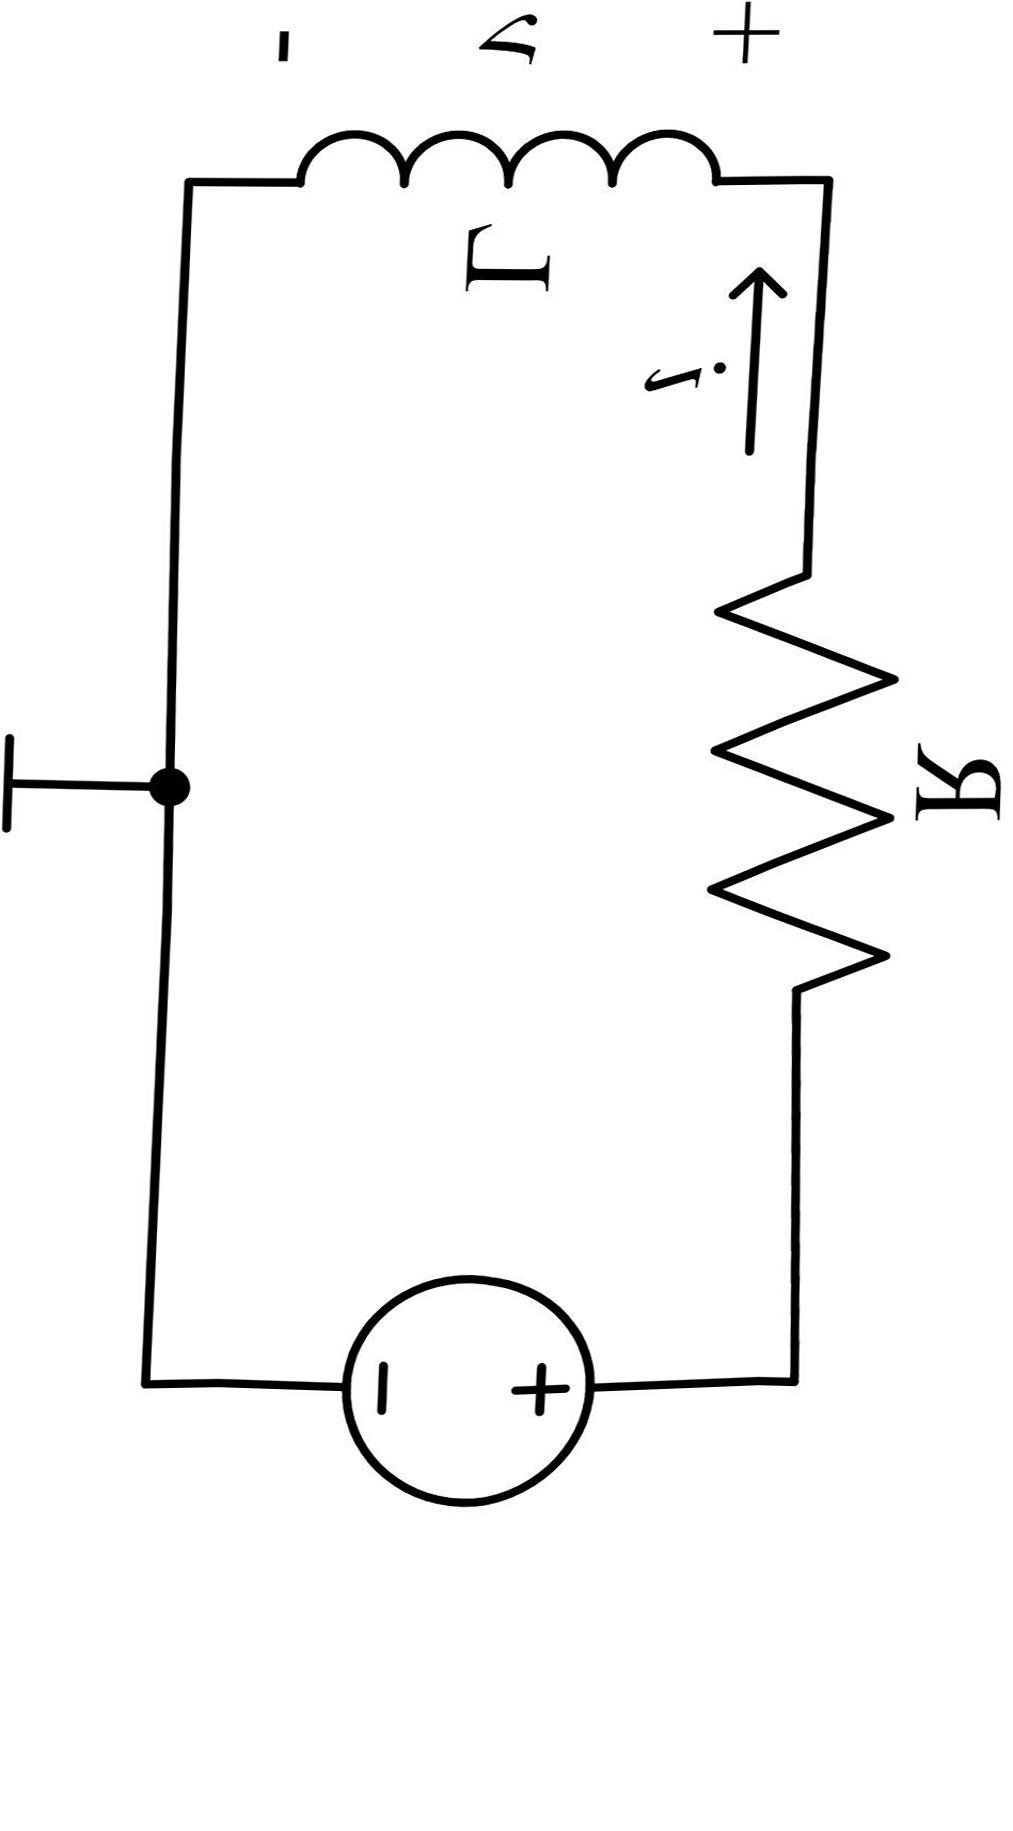Battery: (302, 1225, 654, 1542)
